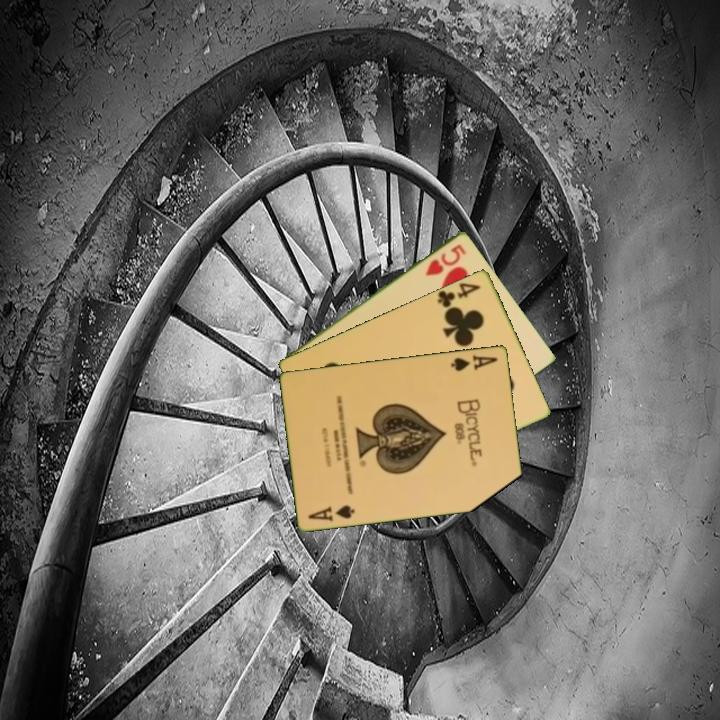4c: (433, 279, 484, 310)
5h: (422, 240, 469, 279)
As: (448, 351, 501, 374), (305, 501, 358, 524)
